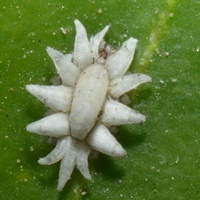insect: (26, 19, 150, 190)
